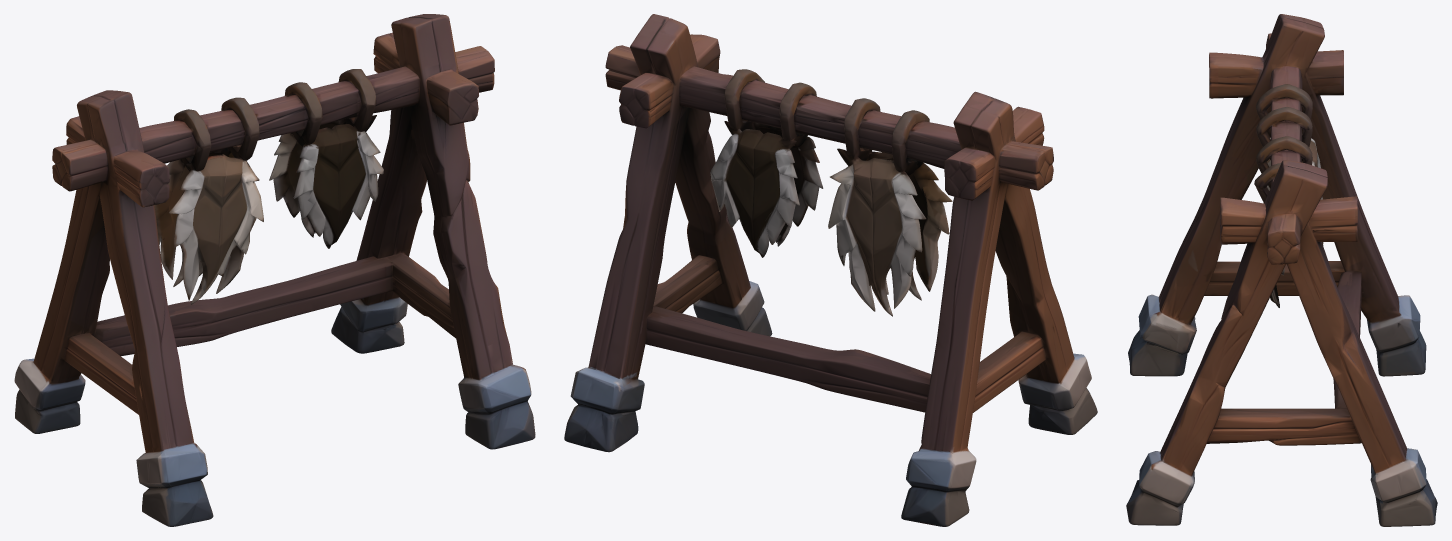
The model's file is rack.glb.
3 renders of one model, left to right at view 1: azimuth 30°, elevation 25°; view 2: azimuth 150°, elevation 25°; view 3: azimuth 270°, elevation 25°, orthographic. The views are drawn at different scales.
Visible parts, largest first — view 1: node_0; view 2: node_0; view 3: node_0.
Part boxes in pixels (x1,y1,x2,y2): node_0: [14, 14, 535, 526]; node_0: [564, 14, 1097, 526]; node_0: [1126, 14, 1437, 526].
Bounding box in the file's own units: 0.8892 × 0.7374 × 0.5898.
Materials: 1 (1 with a texture image).
